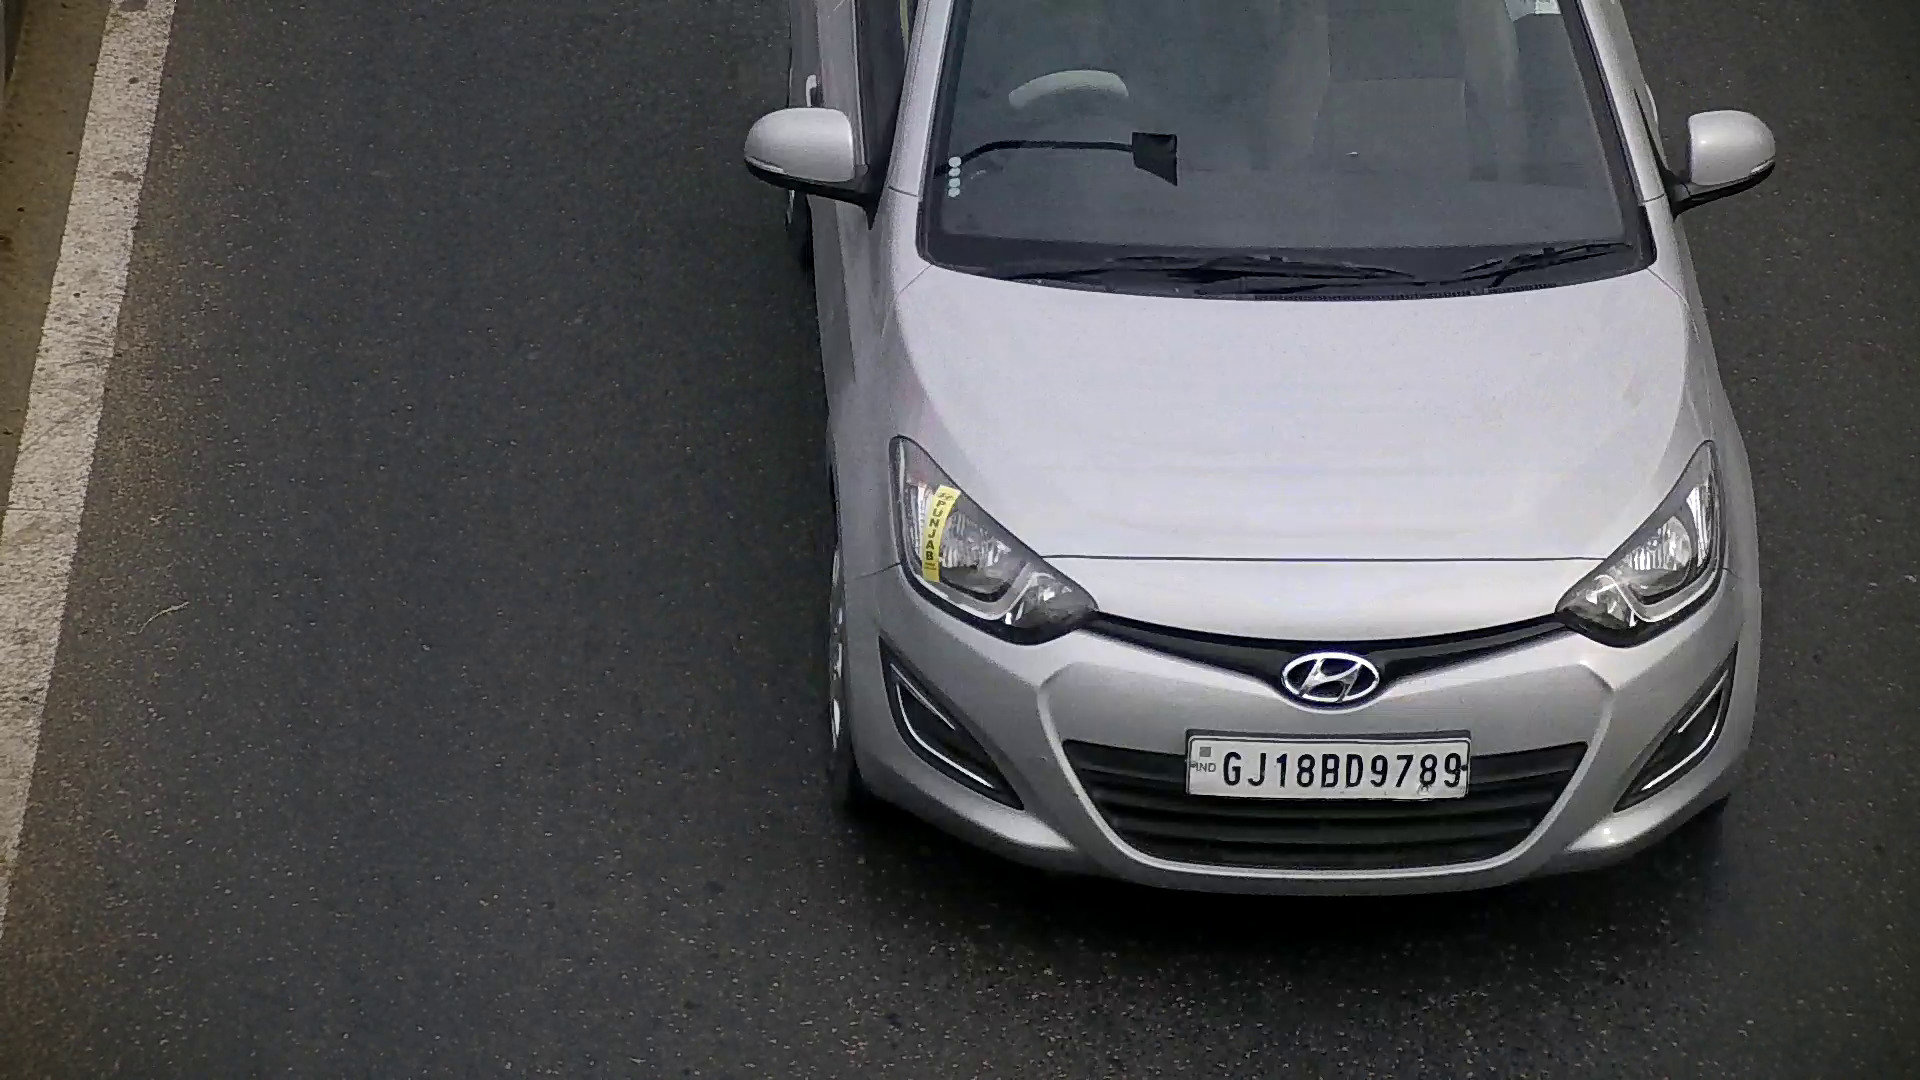numberplate: (1187, 729, 1468, 807)
